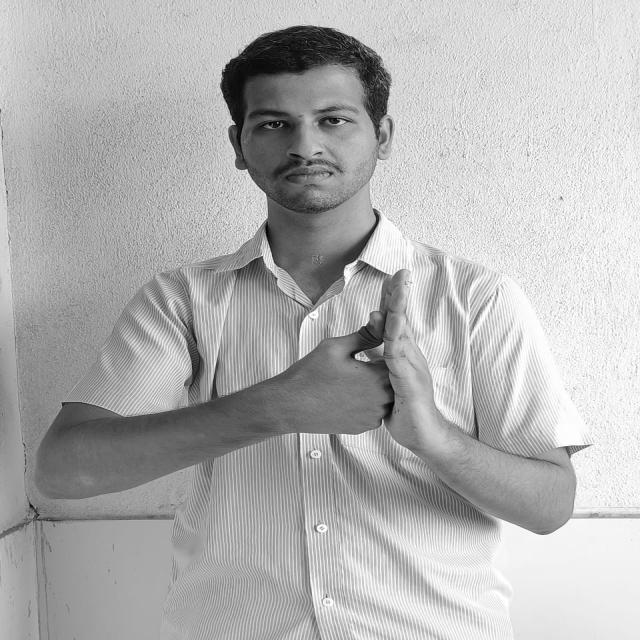Well Done: (298, 268, 456, 445)
